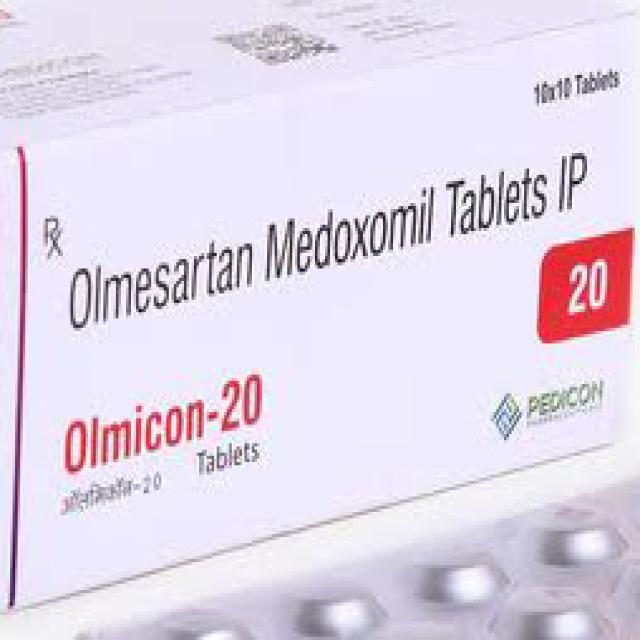drug-name: (61, 367, 266, 478)
